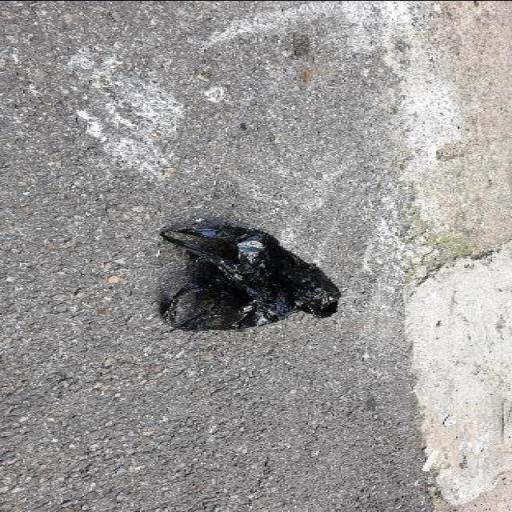plastic-bag: (148, 222, 346, 332)
